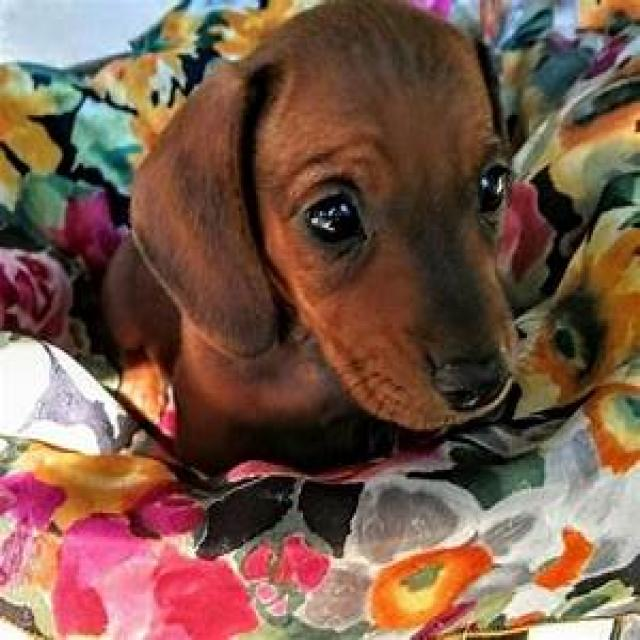dog: (98, 0, 555, 487)
